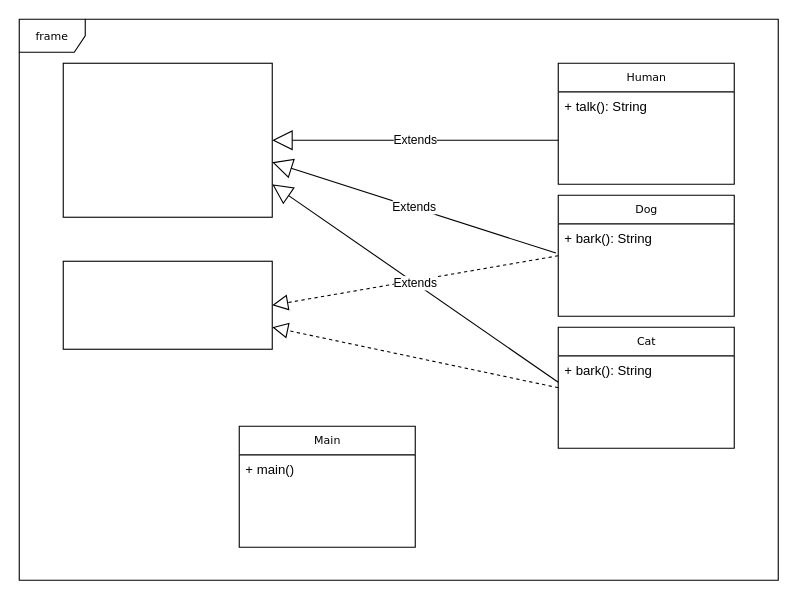
Image size: 798x600. Some labels were removed from this diagram. Each missing label, with the box of its shape:
<<Interface>> Barkable + bark(): String: (62, 260, 272, 349)
Animal # stomach: String + getStomach(): String + eat() + run(): (62, 62, 272, 217)
